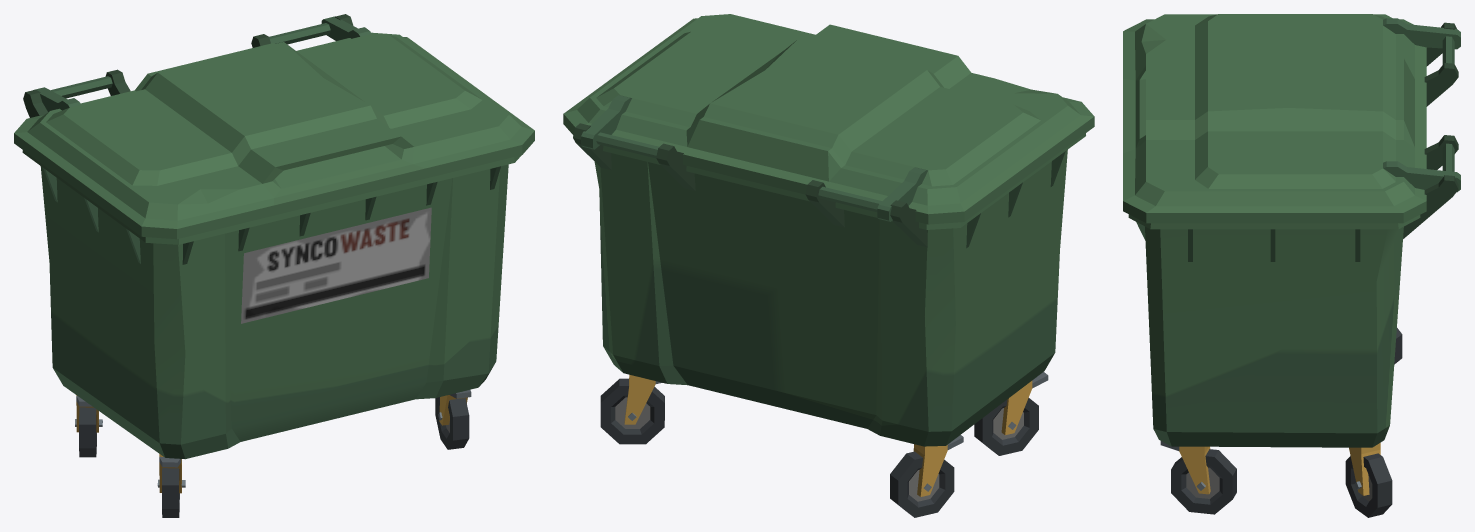
File: SM_Prop_Skip_01.fbx
3 views of the same model, side by side, from view 1: azimuth 30°, elevation 25°; view 2: azimuth 150°, elevation 25°; view 3: azimuth 270°, elevation 25° (orthographic).
Visible parts, largest first — view 1: SM_Prop_Skip_01, SM_Prop_Skip_01_Lid; view 2: SM_Prop_Skip_01, SM_Prop_Skip_01_Lid; view 3: SM_Prop_Skip_01, SM_Prop_Skip_01_Lid.
Boxes of the visible parts, <box> form: SM_Prop_Skip_01: <box>22,14,521,517</box>; SM_Prop_Skip_01_Lid: <box>14,16,534,239</box>; SM_Prop_Skip_01: <box>573,123,1085,517</box>; SM_Prop_Skip_01_Lid: <box>563,14,1094,224</box>; SM_Prop_Skip_01: <box>1128,22,1458,517</box>; SM_Prop_Skip_01_Lid: <box>1123,14,1460,223</box>.
Bounding box in the file's own units: 161 × 139 × 119.
